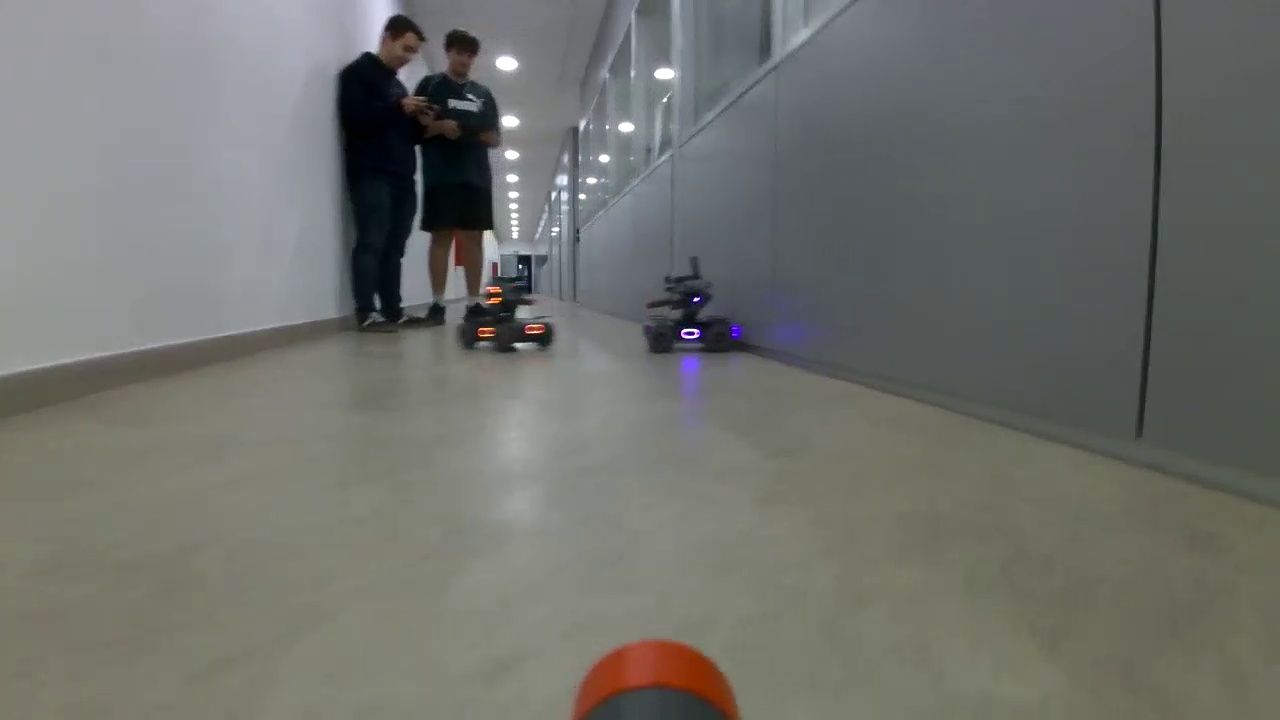robot: (643, 272, 742, 356), (455, 275, 555, 352)
